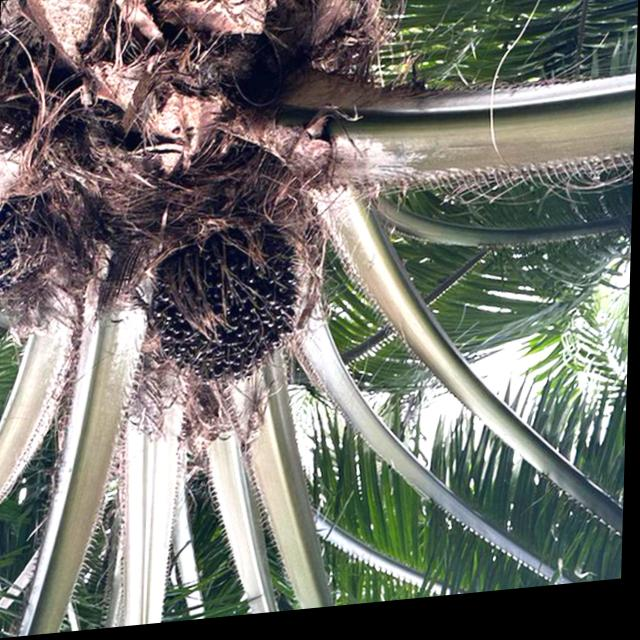unripe: (144, 216, 312, 399)
